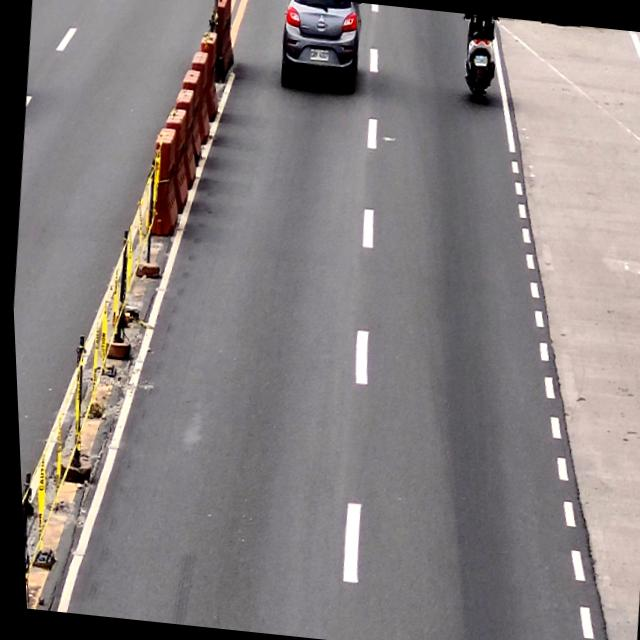Car: (275, 0, 367, 94)
License-Plate: (308, 48, 329, 62), (473, 54, 487, 67)
Motorcycle: (458, 13, 500, 102)
